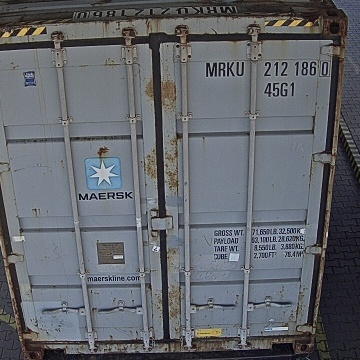serial_id: (206, 60, 330, 76)
